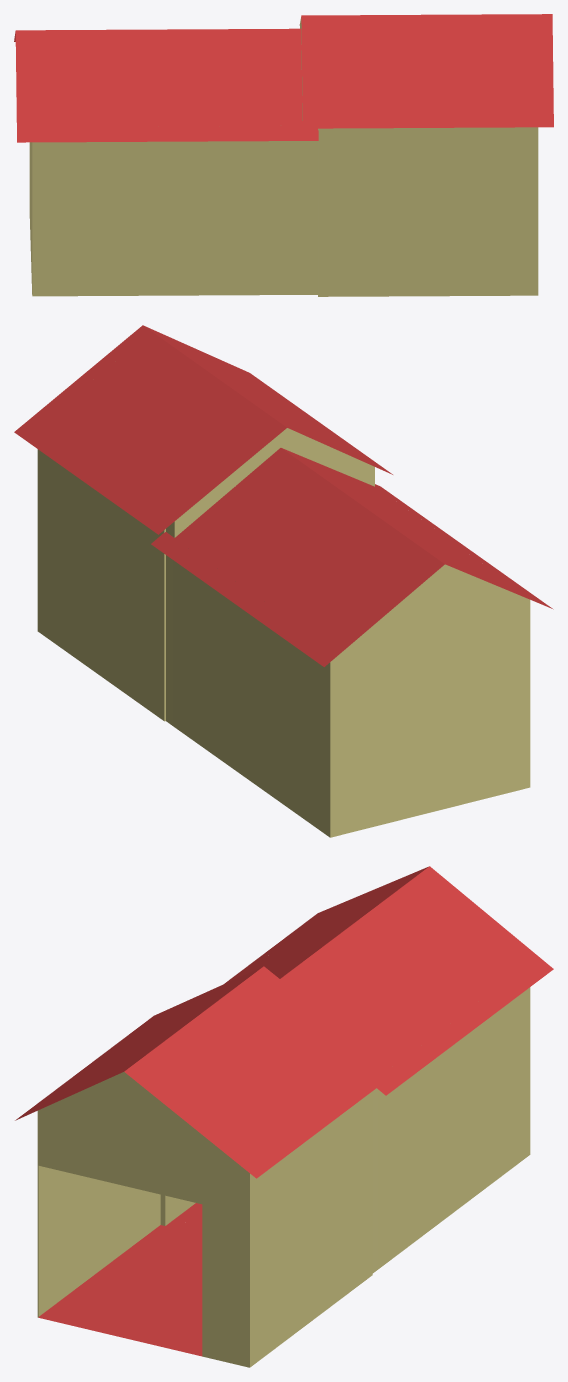
3 renders of one model, top to bottom at view 1: azimuth 30°, elevation 25°; view 2: azimuth 150°, elevation 25°; view 3: azimuth 270°, elevation 25°, orthographic. The views are drawn at different scales.
Visible parts, largest first — view 1: group_9, group_5, group_7, group_3, group_8; view 2: group_9, group_7, group_5, group_3, group_4, group_8; view 3: group_5, group_7, group_3, group_9, group_6, group_4, group_8.
Boxes of the visible parts, <box> form: group_9: <box>29,141,302,296</box>; group_5: <box>300,17,538,296</box>; group_7: <box>14,28,318,142</box>; group_3: <box>299,14,553,128</box>; group_8: <box>16,30,317,141</box>; group_9: <box>174,561,530,837</box>; group_7: <box>151,448,552,666</box>; group_5: <box>37,428,374,726</box>; group_3: <box>38,325,392,533</box>; group_4: <box>14,325,392,534</box>; group_8: <box>152,486,547,665</box>; group_5: <box>37,1072,379,1367</box>; group_7: <box>225,866,553,1095</box>; group_3: <box>15,966,395,1159</box>; group_9: <box>174,987,530,1267</box>; group_6: <box>38,1219,202,1356</box>; group_4: <box>124,1007,395,1178</box>; group_8: <box>231,868,551,1094</box>.
Size of the model in its own units: 38.18 by 30.91 by 17.36.
